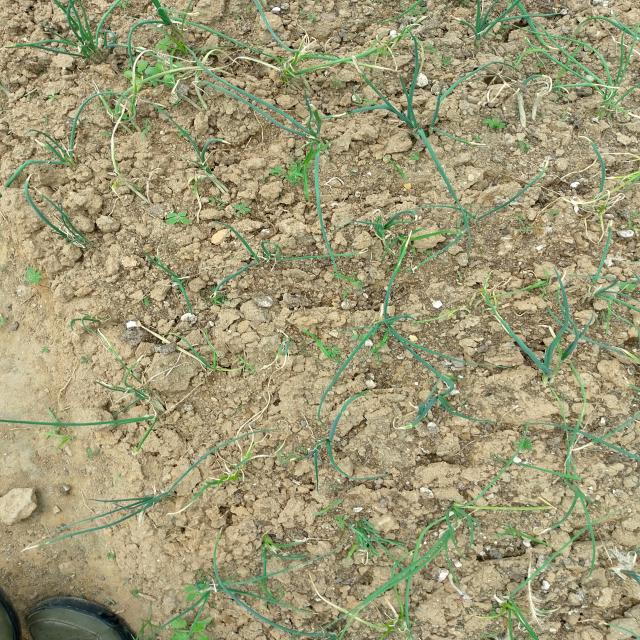Spring Onion: (541, 423, 612, 537), (501, 319, 610, 387), (238, 24, 329, 96), (359, 210, 458, 258), (270, 102, 346, 161), (35, 126, 100, 191), (99, 483, 184, 531), (578, 57, 632, 130), (36, 208, 108, 260), (381, 86, 449, 141), (422, 492, 492, 544), (199, 577, 290, 617), (355, 303, 431, 349), (174, 140, 236, 196), (57, 26, 126, 72), (373, 378, 445, 420), (301, 236, 358, 281), (382, 7, 438, 52), (206, 454, 264, 497), (332, 511, 399, 548), (180, 341, 233, 383), (31, 407, 87, 445), (574, 190, 629, 228), (147, 256, 198, 296), (95, 94, 129, 132)
